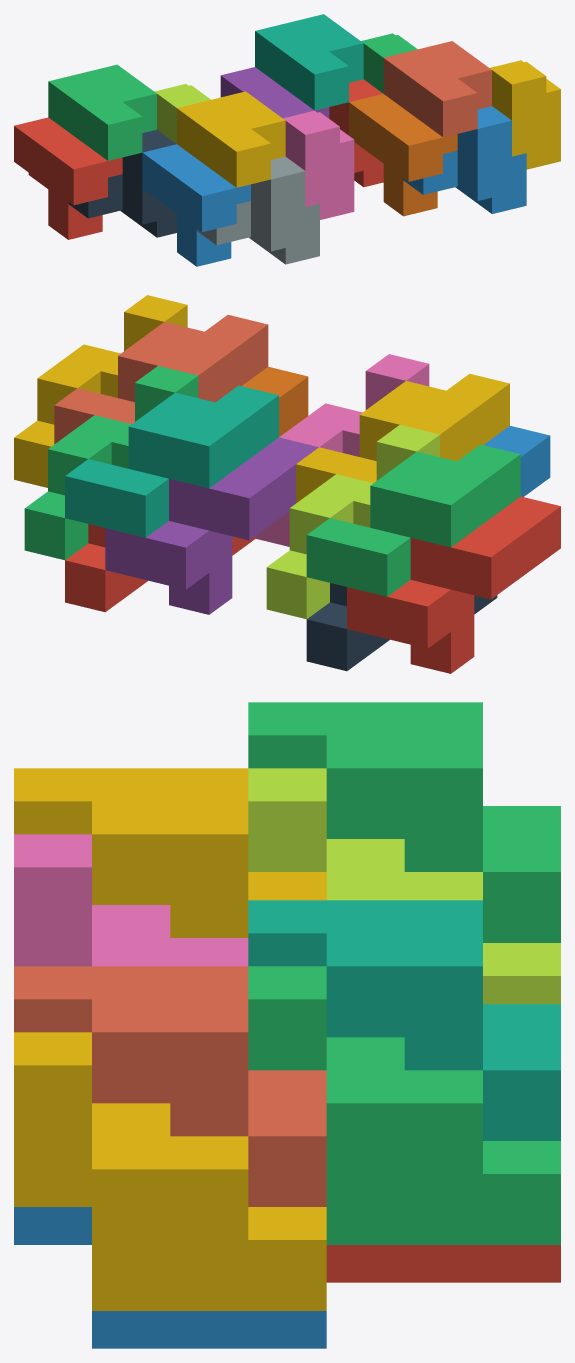
File: tiling.obj
The picture shows the model from 3 angles, top to bottom: view 1: azimuth 30°, elevation 25°; view 2: azimuth 150°, elevation 25°; view 3: azimuth 270°, elevation 25°; orthographic projection. The views are drawn at different scales.
Visible parts, largest first — view 1: copy_1_domain_3, copy_1_domain_8, copy_1_domain_4, copy_1_domain_7, copy_1_domain_1, copy_1_domain_2, copy_1_domain_6, copy_2_domain_6, copy_2_domain_2, copy_2_domain_4, copy_2_domain_8, copy_2_domain_1 (+4 smaller); view 2: copy_1_domain_1, copy_1_domain_3, copy_1_domain_7, copy_1_domain_5, copy_1_domain_8, copy_1_domain_4, copy_2_domain_3, copy_2_domain_7, copy_2_domain_8, copy_2_domain_4, copy_2_domain_5, copy_2_domain_1 (+2 smaller); view 3: copy_2_domain_8, copy_2_domain_7, copy_1_domain_8, copy_1_domain_7, copy_1_domain_3, copy_1_domain_4, copy_2_domain_3, copy_2_domain_4, copy_2_domain_6, copy_2_domain_5.
Boxes of the visible parts, box(x1,y1,x2,y2) form: copy_1_domain_3: box(48, 64, 156, 160); copy_1_domain_8: box(383, 41, 491, 137); copy_1_domain_4: box(177, 91, 285, 187); copy_1_domain_7: box(255, 14, 363, 110); copy_1_domain_1: box(14, 117, 122, 239); copy_1_domain_2: box(142, 144, 250, 266); copy_1_domain_6: box(349, 94, 457, 216); copy_2_domain_6: box(403, 106, 526, 213); copy_2_domain_2: box(196, 156, 319, 264); copy_2_domain_4: box(283, 110, 354, 219); copy_2_domain_8: box(490, 60, 560, 169); copy_2_domain_1: box(68, 129, 176, 237); copy_1_domain_1: box(347, 496, 560, 673); copy_1_domain_3: box(306, 444, 520, 596); copy_1_domain_7: box(65, 385, 278, 537); copy_1_domain_5: box(105, 437, 318, 614); copy_1_domain_8: box(54, 315, 268, 444); copy_1_domain_4: box(296, 373, 509, 503); copy_2_domain_3: box(266, 425, 439, 619); copy_2_domain_7: box(24, 366, 198, 560); copy_2_domain_8: box(14, 295, 187, 487); copy_2_domain_4: box(255, 354, 429, 546); copy_2_domain_5: box(65, 524, 255, 612); copy_2_domain_1: box(306, 583, 497, 671); copy_2_domain_8: box(14, 1032, 326, 1310); copy_2_domain_7: box(248, 966, 560, 1244); copy_1_domain_8: box(14, 966, 326, 1206); copy_1_domain_7: box(248, 900, 560, 1140); copy_1_domain_3: box(248, 702, 560, 942); copy_1_domain_4: box(14, 768, 326, 937); copy_2_domain_3: box(248, 768, 560, 1004); copy_2_domain_4: box(14, 834, 248, 966); copy_2_domain_6: box(14, 1207, 326, 1348); copy_2_domain_5: box(326, 1245, 560, 1282).
Bounding box in the file's own units: 13 × 4 × 7.
